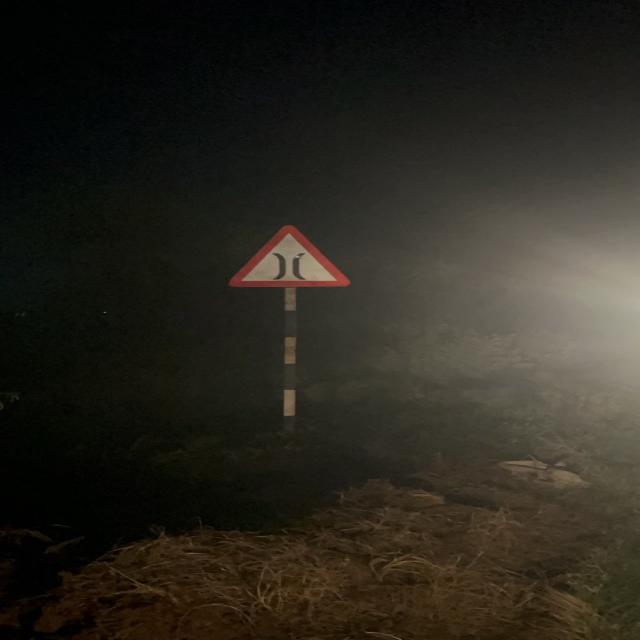Narrow_Bridge: (228, 224, 354, 285)
